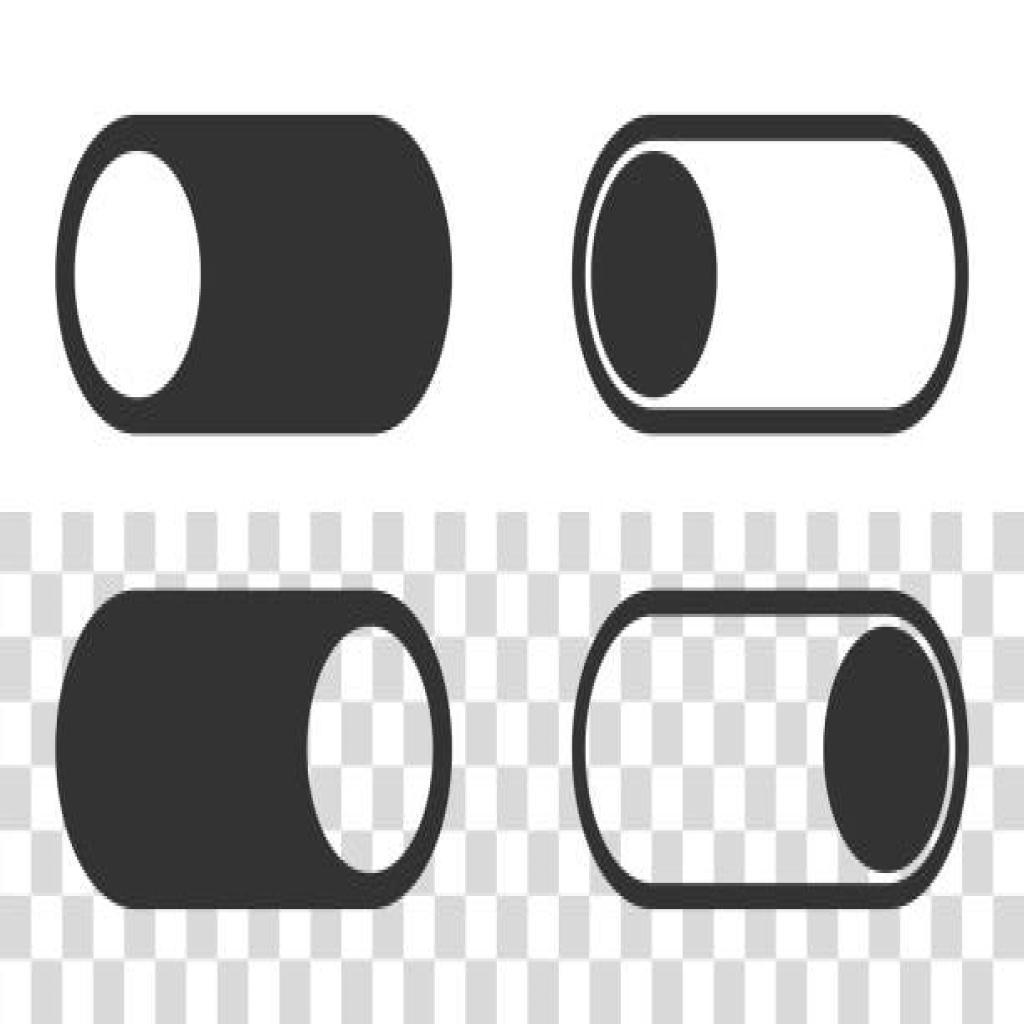switch: (569, 114, 974, 436), (54, 588, 456, 909), (571, 590, 971, 911), (53, 115, 454, 434)
